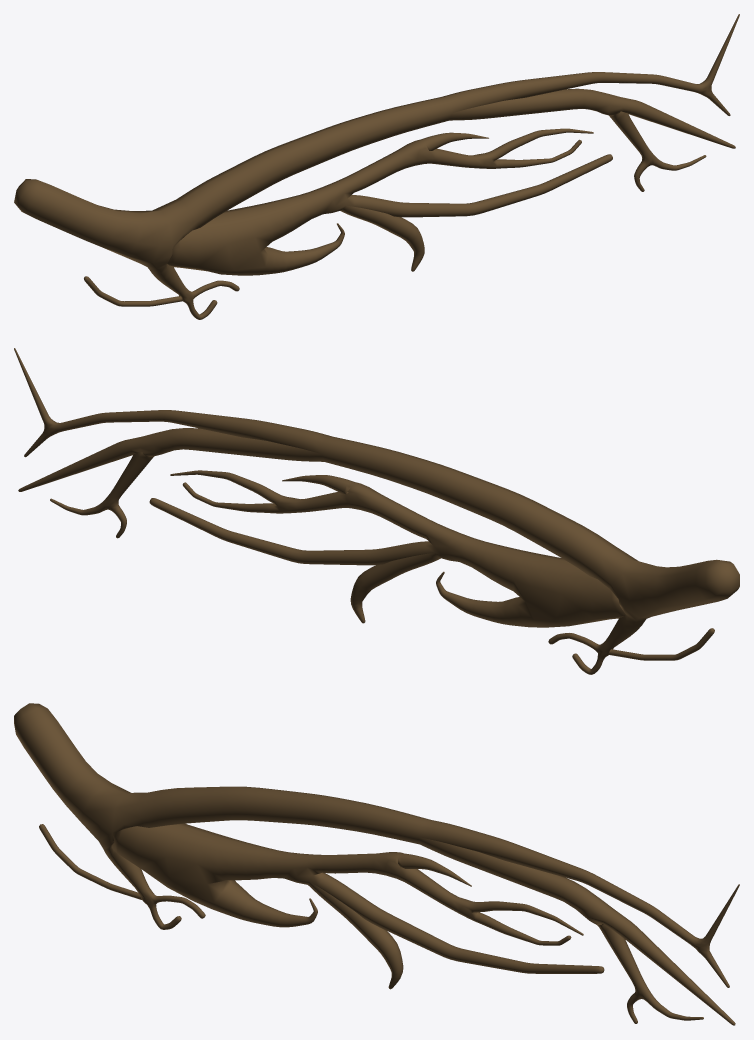
The picture shows the model from 3 angles, top to bottom: view 1: azimuth 30°, elevation 25°; view 2: azimuth 150°, elevation 25°; view 3: azimuth 330°, elevation 25°; orthographic projection. The views are drawn at different scales.
Visible parts, largest first — view 1: Vert.001; view 2: Vert.001; view 3: Vert.001.
Part boxes in pixels (x1,y1,x2,y2): Vert.001: (14, 14, 739, 319); Vert.001: (14, 348, 739, 674); Vert.001: (14, 703, 739, 1025).
Bounding box in the file's own units: 2121 × 514 × 231.
